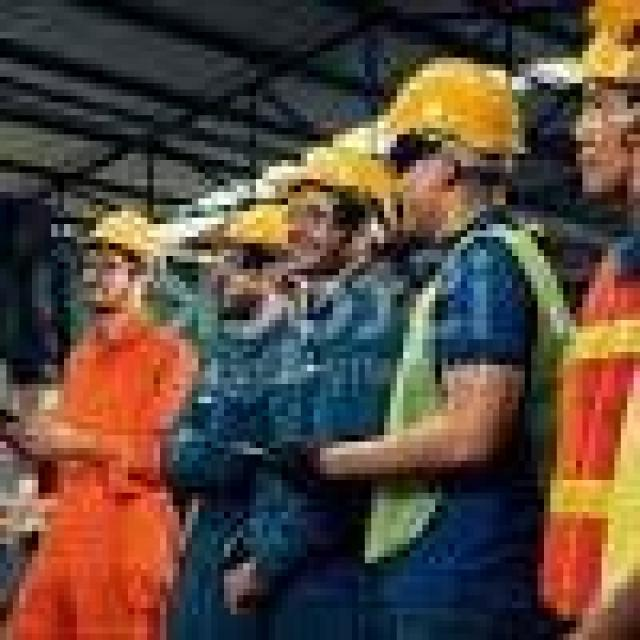Reflective-Jacket: (7, 307, 198, 634)
Safety-Helmet: (352, 45, 550, 179), (64, 198, 186, 282)
